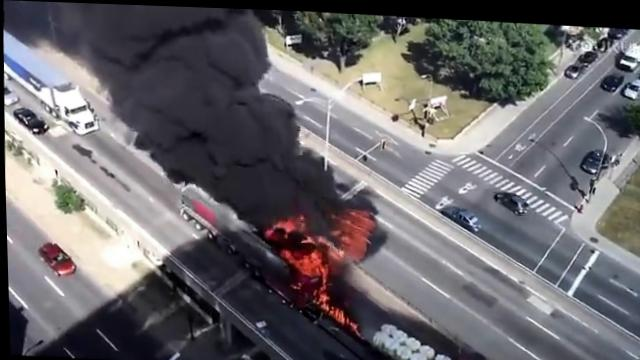fire: (284, 247, 318, 272), (277, 214, 296, 229), (327, 302, 341, 319), (317, 263, 326, 284), (315, 284, 326, 298), (318, 297, 325, 306)
